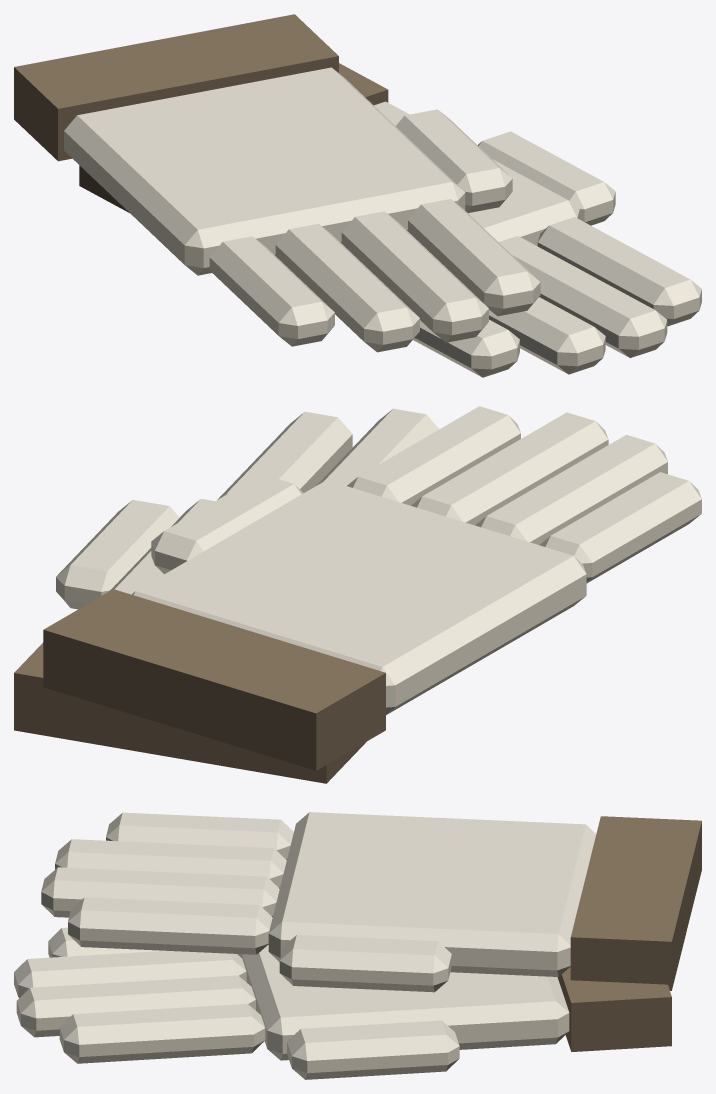
File: Item_work_gloves.fbx
3 renders of one model, top to bottom at view 1: azimuth 30°, elevation 25°; view 2: azimuth 150°, elevation 25°; view 3: azimuth 270°, elevation 25°, orthographic. The views are drawn at different scales.
Parts seen in each view (by area): view 1: Gloves, Cuffs; view 2: Gloves, Cuffs; view 3: Gloves, Cuffs.
Boxes of the visible parts, x1=… form: Gloves: x1=64, y1=67, x2=701, y2=377; Cuffs: x1=14, y1=14, x2=388, y2=212; Gloves: x1=56, y1=406, x2=701, y2=714; Cuffs: x1=14, y1=589, x2=385, y2=783; Gloves: x1=14, y1=812, x2=596, y2=1079; Cuffs: x1=557, y1=816, x2=701, y2=1051.
Size of the model in its own units: 0.1873 by 0.0405 by 0.274.
